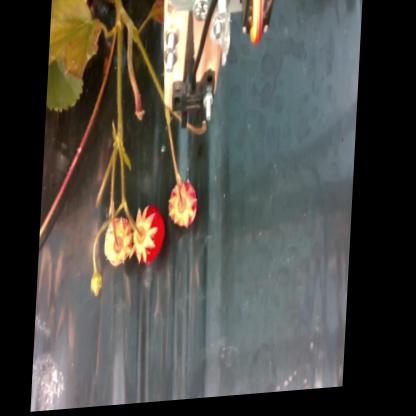ripe: (134, 205, 168, 272)
unripe: (169, 184, 201, 232), (107, 218, 136, 270)
